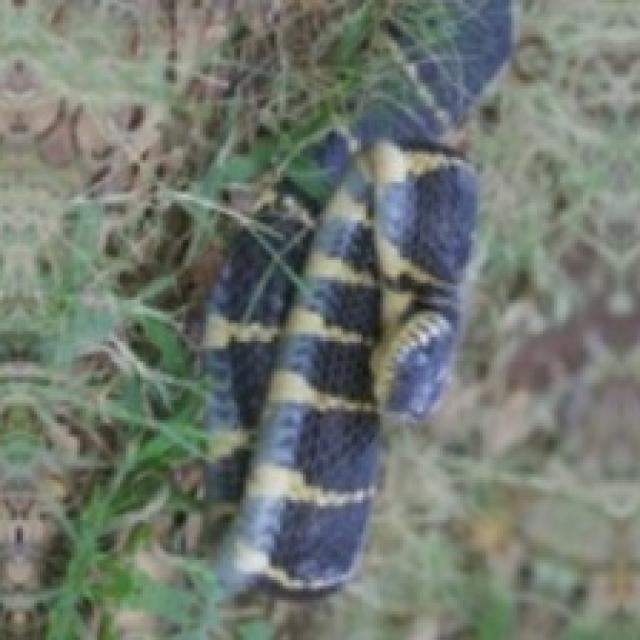mangrove cat snake: (217, 0, 511, 591)
